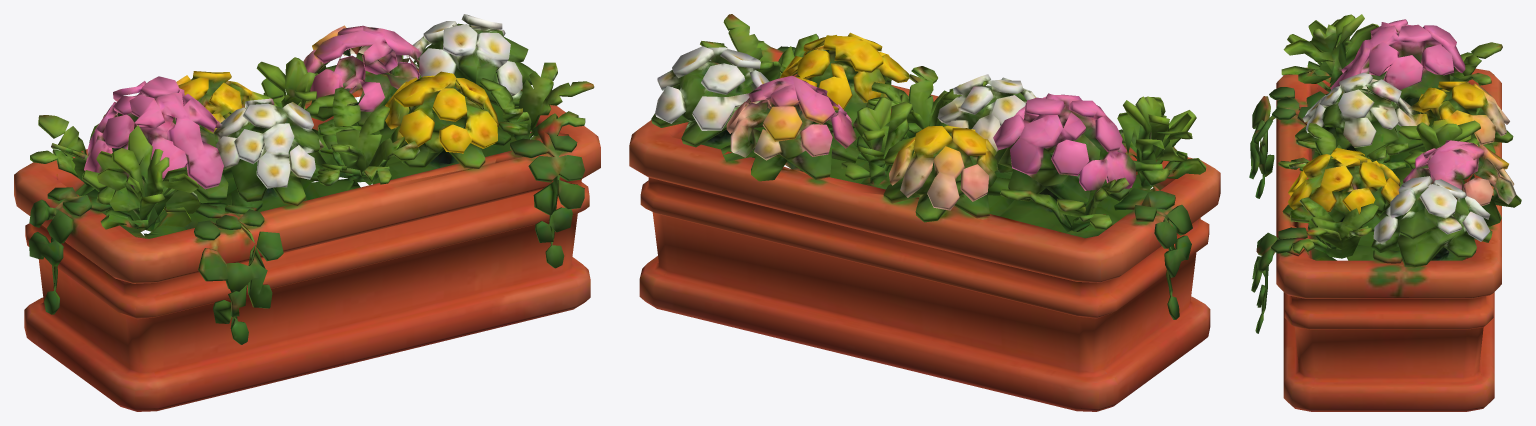
The model's file is planter.glb.
3 views of the same model, side by side, from view 1: azimuth 30°, elevation 25°; view 2: azimuth 150°, elevation 25°; view 3: azimuth 270°, elevation 25° (orthographic). The views are drawn at different scales.
Parts seen in each view (by area): view 1: tripo_node_af903c02-7570-4e47-a6e0-20d12e3e927e; view 2: tripo_node_af903c02-7570-4e47-a6e0-20d12e3e927e; view 3: tripo_node_af903c02-7570-4e47-a6e0-20d12e3e927e.
Part boxes in pixels (<box>): tripo_node_af903c02-7570-4e47-a6e0-20d12e3e927e: <box>14,14,600,411</box>; tripo_node_af903c02-7570-4e47-a6e0-20d12e3e927e: <box>629,14,1220,411</box>; tripo_node_af903c02-7570-4e47-a6e0-20d12e3e927e: <box>1249,14,1521,411</box>.
Size of the model in its own units: 0.9427 by 0.4541 by 0.5001.
Materials: 1 (1 with a texture image).
